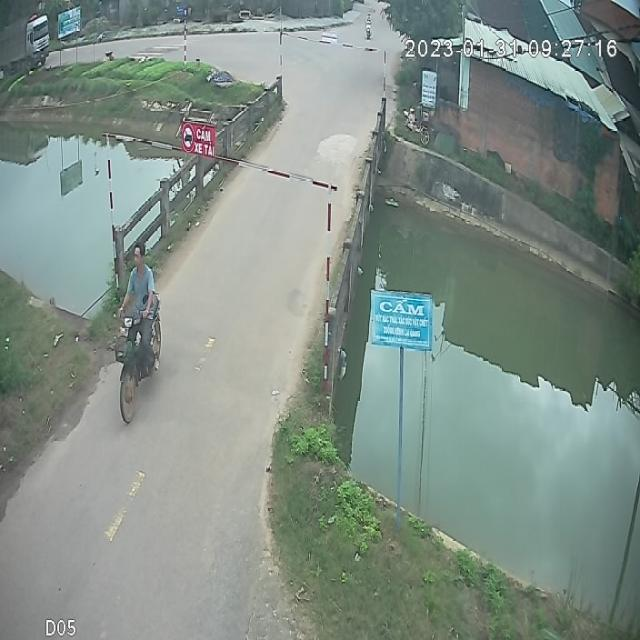no_helmet: (119, 219, 157, 296)
